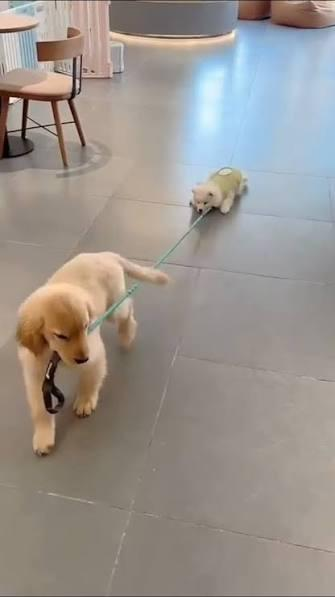non-dog: (189, 166, 250, 217)
puppy-dog: (14, 250, 174, 457)
